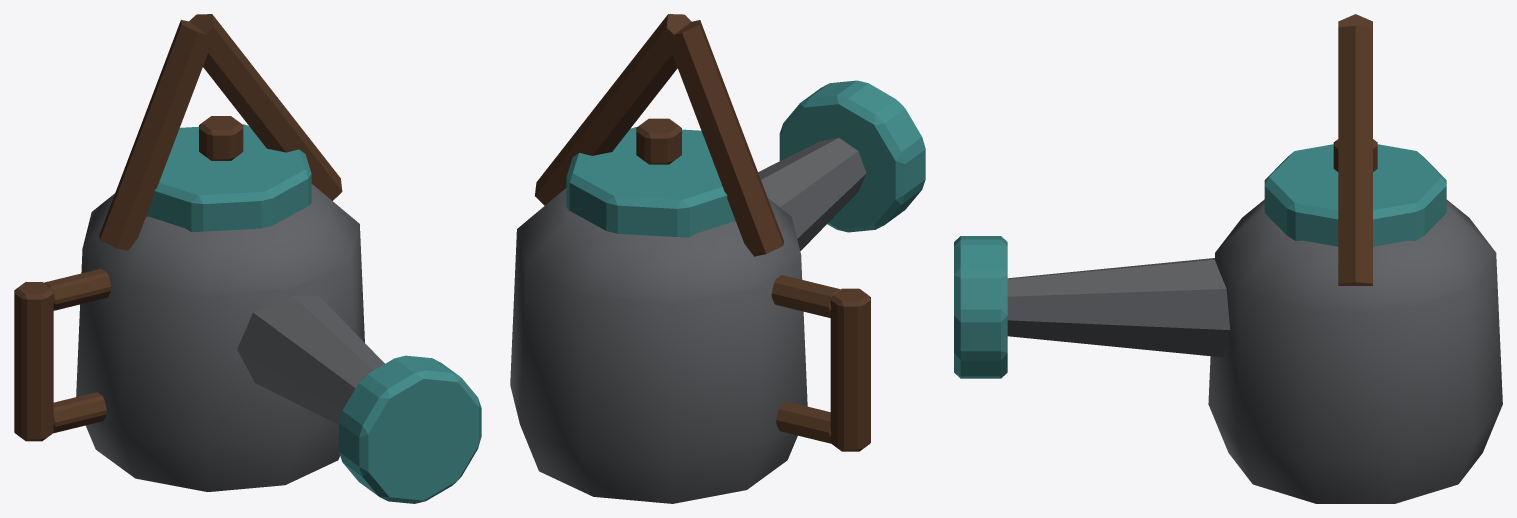
File: tool_watering_can_a.glb
3 views of the same model, side by side, from view 1: azimuth 30°, elevation 25°; view 2: azimuth 150°, elevation 25°; view 3: azimuth 270°, elevation 25° (orthographic). The views are drawn at different scales.
Parts seen in each view (by area): view 1: watering_can_body, watering_can_lid, watering_can_carry_handle_a; view 2: watering_can_body, watering_can_carry_handle_a, watering_can_lid; view 3: watering_can_body, watering_can_lid, watering_can_carry_handle_a.
Boxes of the visible parts, bbox=[...] form: watering_can_body: bbox=[76, 184, 384, 491]; watering_can_lid: bbox=[146, 124, 481, 503]; watering_can_carry_handle_a: bbox=[14, 14, 342, 441]; watering_can_body: bbox=[510, 137, 866, 503]; watering_can_carry_handle_a: bbox=[535, 14, 870, 451]; watering_can_lid: bbox=[566, 80, 925, 237]; watering_can_body: bbox=[1007, 199, 1502, 503]; watering_can_lid: bbox=[954, 144, 1446, 378]; watering_can_carry_handle_a: bbox=[1333, 14, 1377, 285].
Bounding box in the file's own units: 0.2785 × 0.3485 × 0.41.
